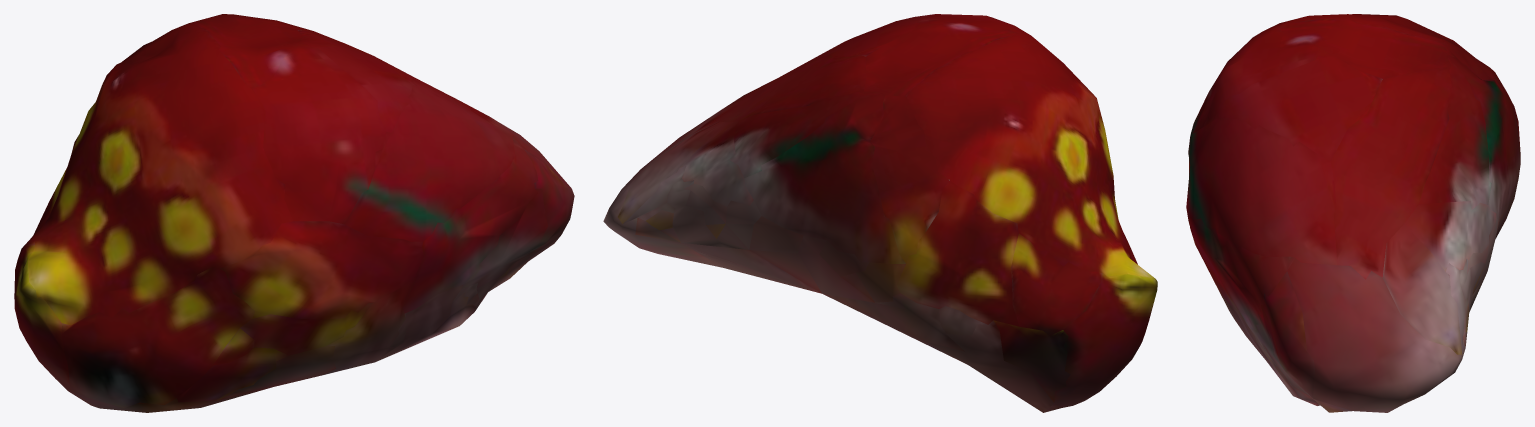
The model's file is hall.glb.
The picture shows the model from 3 angles, left to right: view 1: azimuth 30°, elevation 25°; view 2: azimuth 150°, elevation 25°; view 3: azimuth 270°, elevation 25°; orthographic projection. The views are drawn at different scales.
Size of the model in its own units: 0.3283 by 0.1967 by 0.1898.
Materials: 1 (1 with a texture image).
